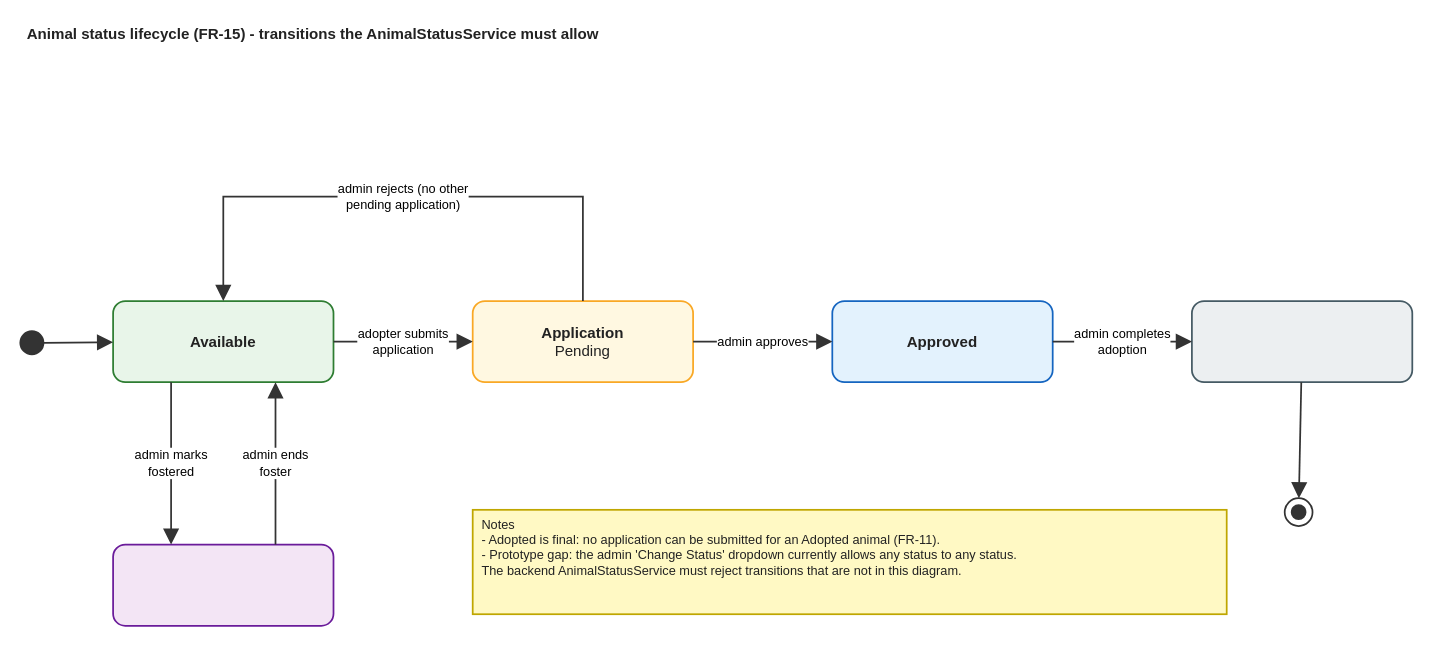
Image size: 1434x646. Some labels were removed from this diagram. Each missing label, with the centre of its shape:
Adopted: the point at 1302,341
Fostered: the point at 223,584
